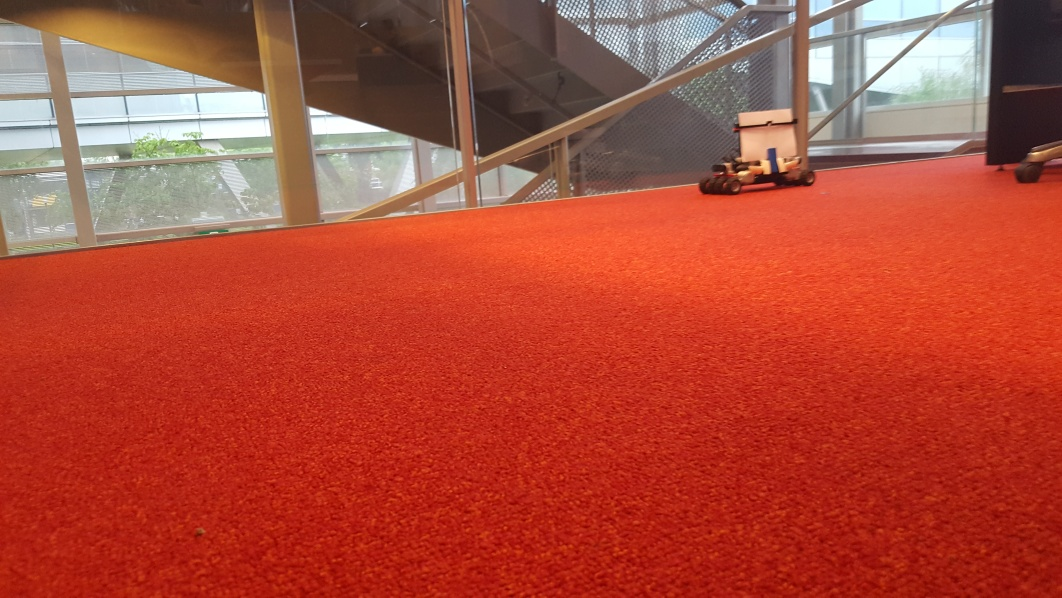car: (697, 106, 817, 196)
